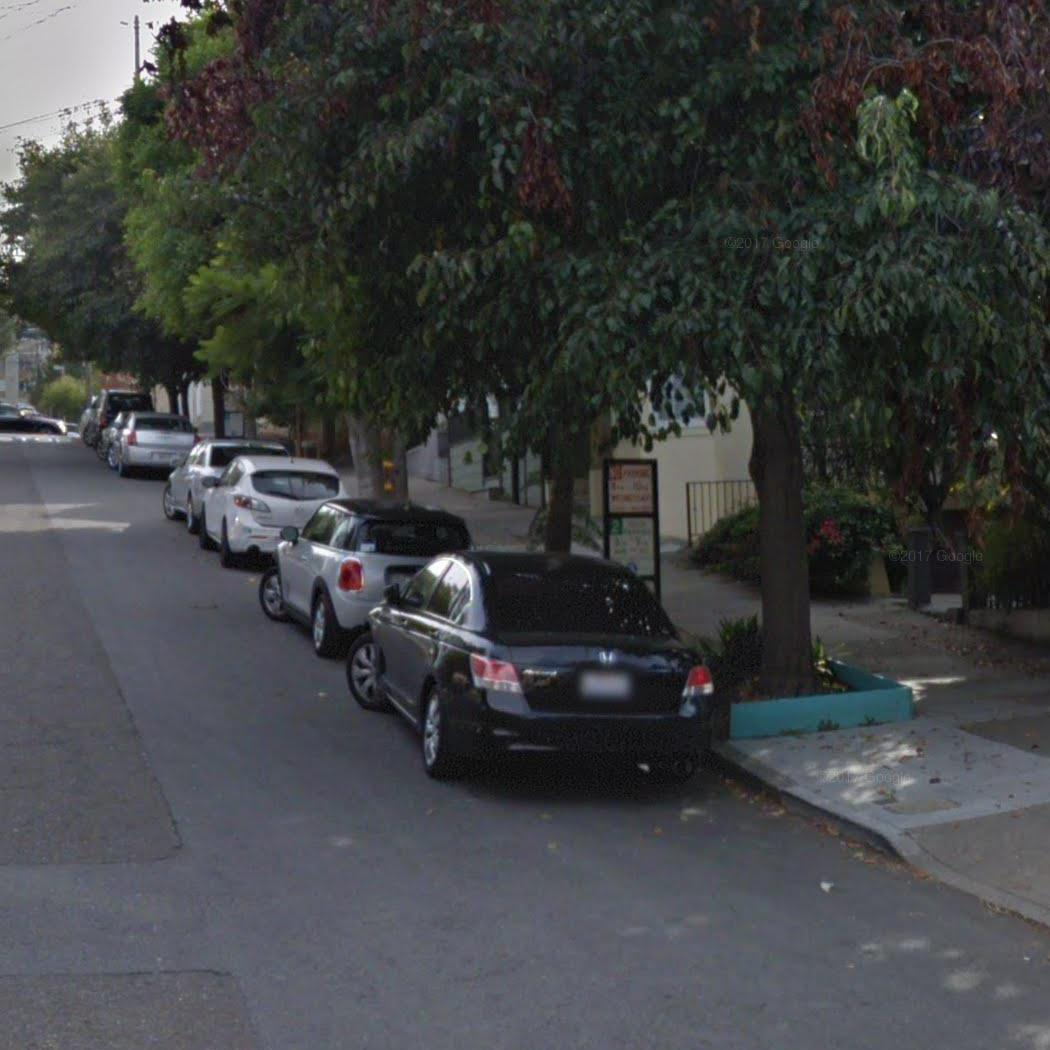2 Hour Parking: (605, 515, 660, 579)
No Parking: (604, 459, 657, 516)
